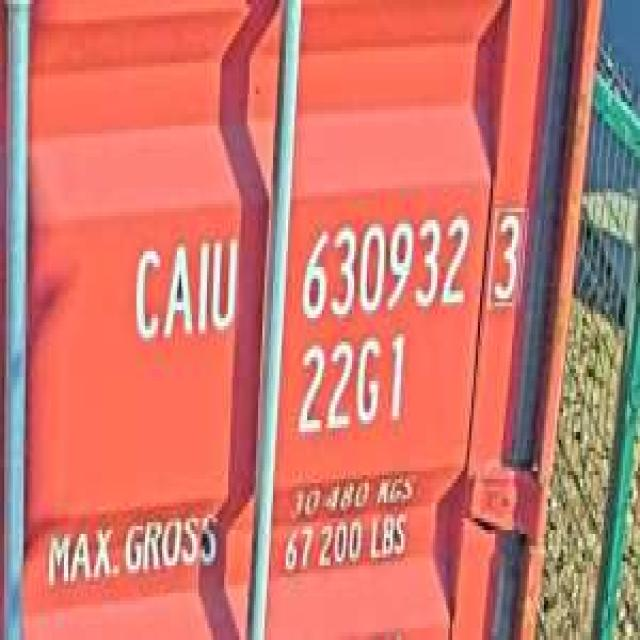dv: (484, 192, 529, 324)
owner: (126, 224, 239, 353)
serial: (293, 204, 472, 326)
size: (292, 330, 410, 448)
